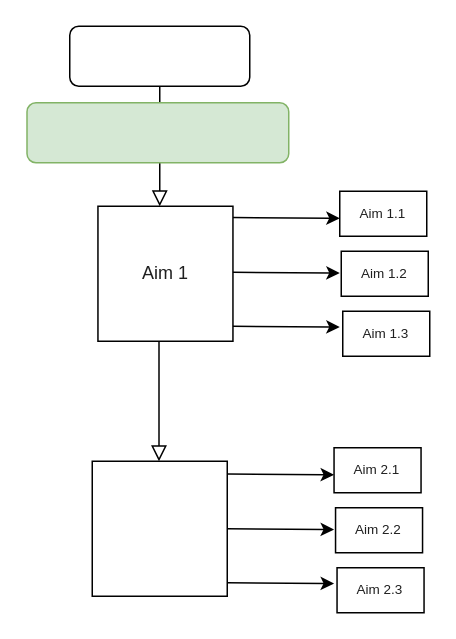
Some shapes in this 456 by 639 pixel diagram are drawn without their labels. The centre of each missing label's shape, as x and y in pixels:
"Aim 2" goes at (159,528).
"Clean and filter data using excel and R" goes at (157,132).
"Raw data" goes at (159,55).
